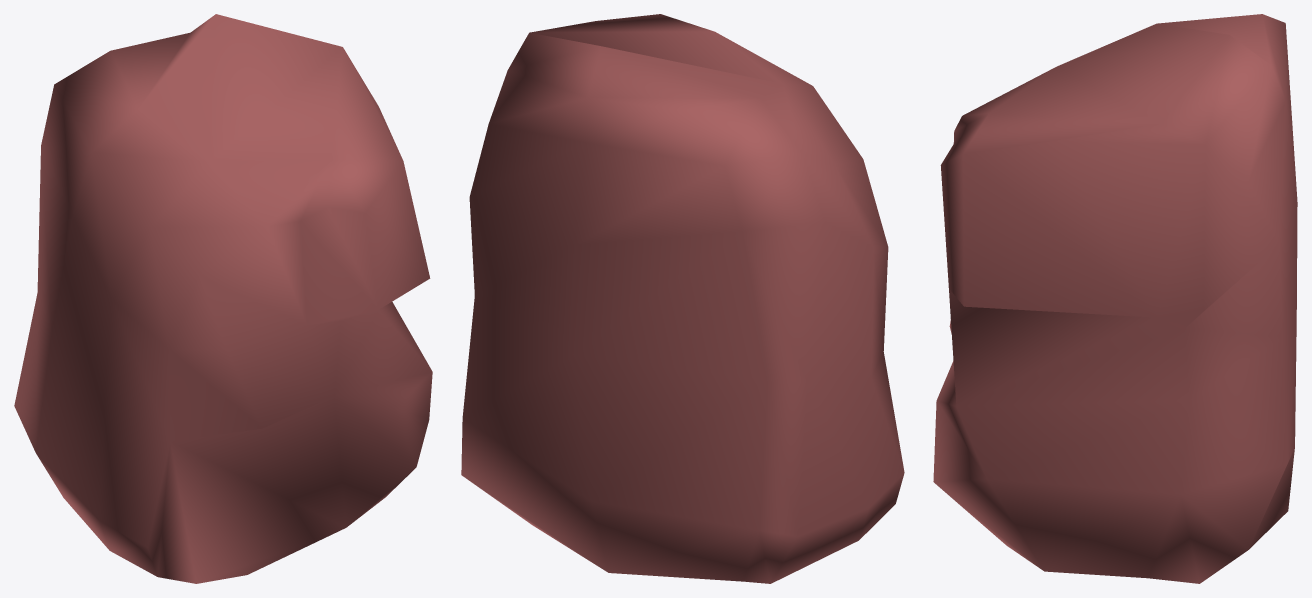
File: SM_cliff04_low.fbx
3 views of the same model, side by side, from view 1: azimuth 30°, elevation 25°; view 2: azimuth 150°, elevation 25°; view 3: azimuth 270°, elevation 25° (orthographic). The views are drawn at different scales.
Visible parts, largest first — view 1: SM_cliff04_low; view 2: SM_cliff04_low; view 3: SM_cliff04_low.
Boxes of the visible parts, bbox=[...] form: SM_cliff04_low: bbox=[14, 14, 432, 583]; SM_cliff04_low: bbox=[461, 14, 904, 583]; SM_cliff04_low: bbox=[933, 14, 1297, 583].
Bounding box in the file's own units: 9.01 × 13.46 × 8.67.
